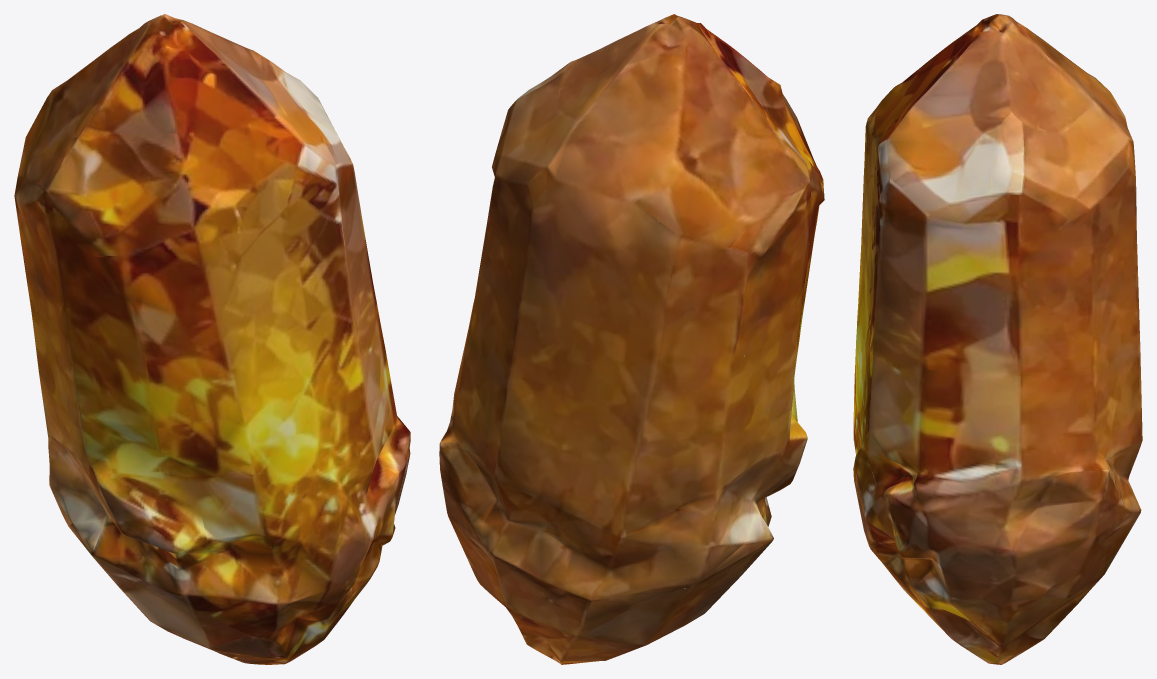
Rendered from gas-crystal.glb.
3 views of the same model, side by side, from view 1: azimuth 30°, elevation 25°; view 2: azimuth 150°, elevation 25°; view 3: azimuth 270°, elevation 25° (orthographic). The views are drawn at different scales.
Visible parts, largest first — view 1: tripo_node_25b2ef78-efcb-453c-8975-a39a4ee6ec65; view 2: tripo_node_25b2ef78-efcb-453c-8975-a39a4ee6ec65; view 3: tripo_node_25b2ef78-efcb-453c-8975-a39a4ee6ec65.
Boxes of the visible parts, x1,y1,x2,y2 form: tripo_node_25b2ef78-efcb-453c-8975-a39a4ee6ec65: (14, 14, 410, 664); tripo_node_25b2ef78-efcb-453c-8975-a39a4ee6ec65: (439, 14, 824, 664); tripo_node_25b2ef78-efcb-453c-8975-a39a4ee6ec65: (853, 14, 1142, 664).
Size of the model in its own units: 0.5142 by 0.9792 by 0.4295.
Materials: 1 (1 with a texture image).
